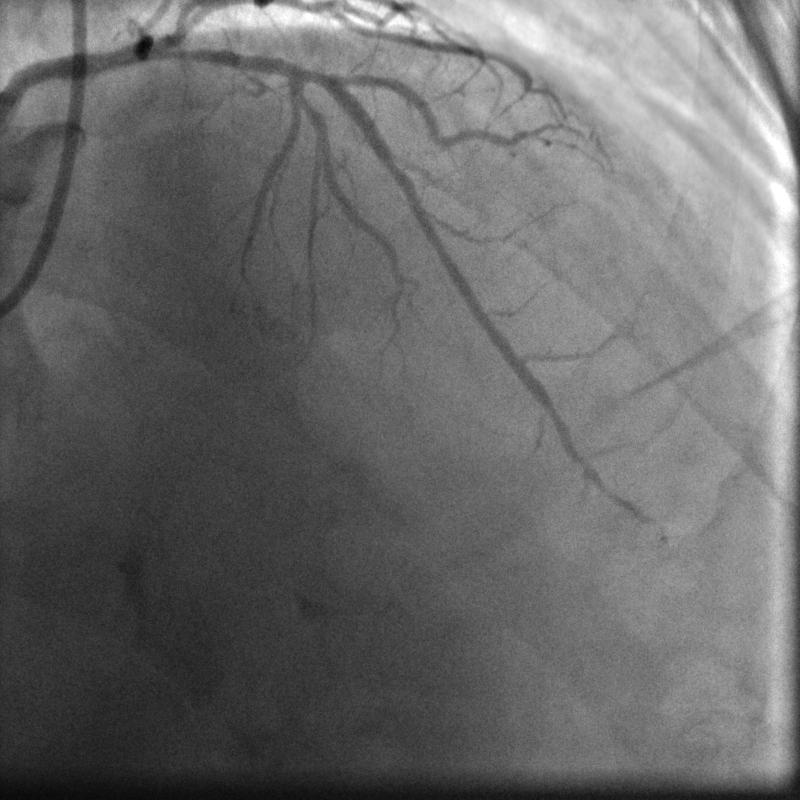Stenosis: (157, 38, 219, 66)
